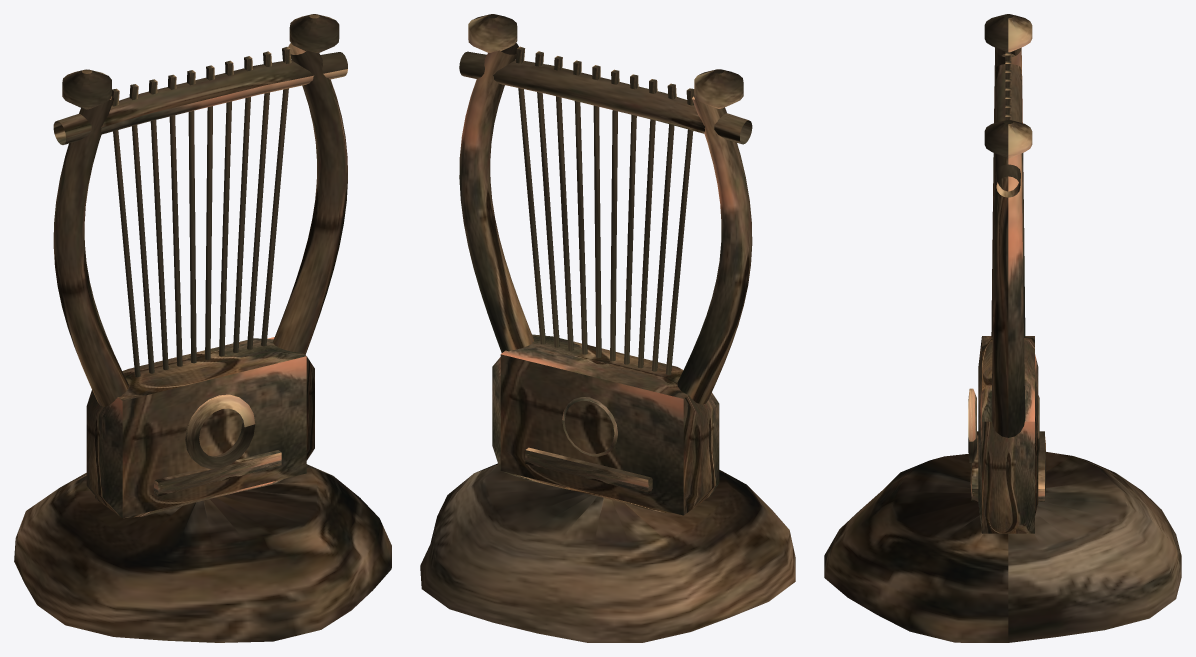
The model's file is davids-harp.glb.
3 views of the same model, side by side, from view 1: azimuth 30°, elevation 25°; view 2: azimuth 150°, elevation 25°; view 3: azimuth 270°, elevation 25° (orthographic). The views are drawn at different scales.
Visible parts, largest first — view 1: HeroRelicMonument; view 2: HeroRelicMonument; view 3: HeroRelicMonument.
Boxes of the visible parts, box(x1,y1,x2,y2) form: HeroRelicMonument: box(14, 14, 391, 642); HeroRelicMonument: box(420, 14, 795, 642); HeroRelicMonument: box(824, 14, 1181, 642).
Size of the model in its own units: 1.44 by 2.19 by 1.43.
1 material, 1 textured.
